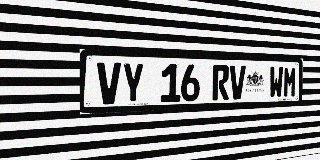1: (161, 63, 181, 102)
6: (181, 64, 200, 101)
M: (283, 66, 297, 98)
R: (212, 65, 229, 100)
V: (97, 62, 121, 105), (229, 65, 246, 100)
W: (269, 66, 283, 98)
Y: (122, 63, 144, 104)
